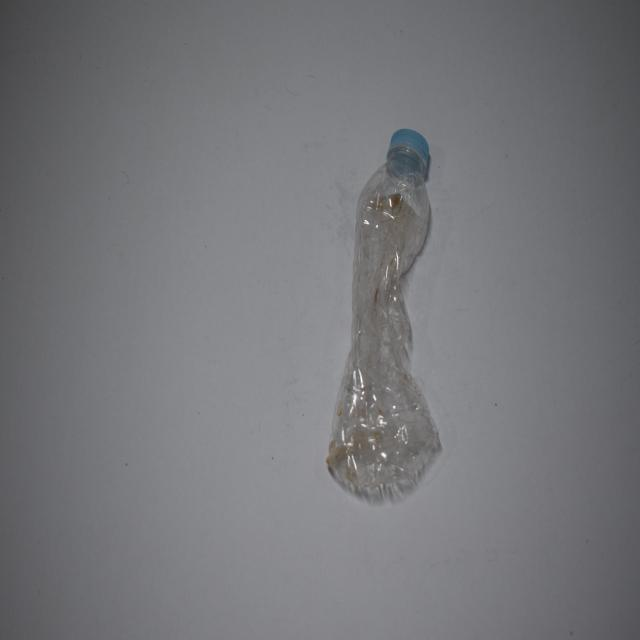bottle: (331, 103, 451, 521)
